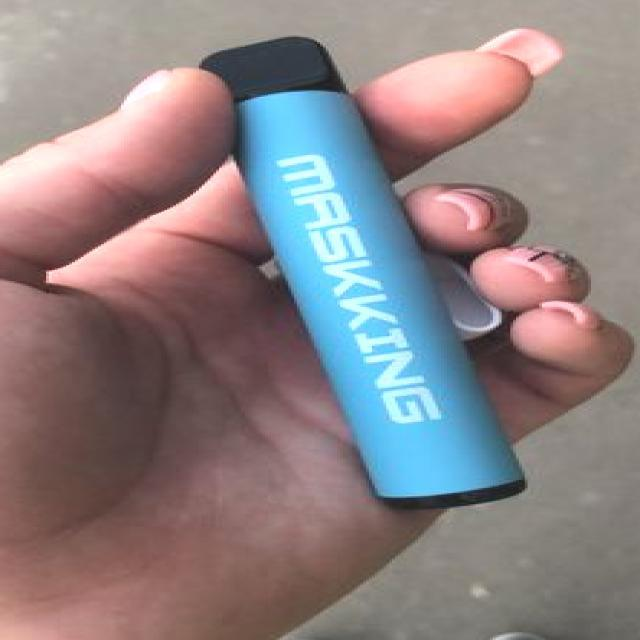Hazard: (197, 37, 532, 510)
